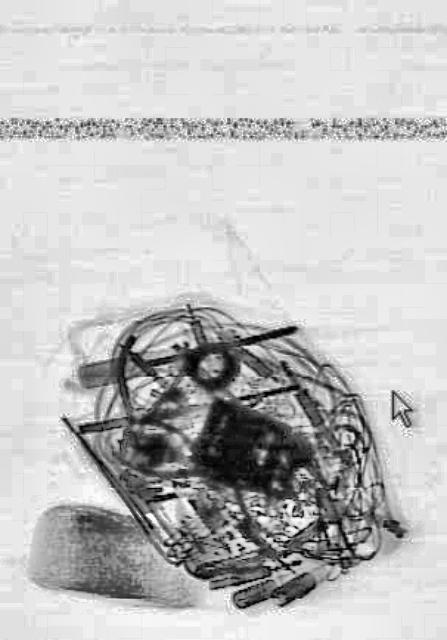Pliers: (91, 326, 187, 474), (122, 412, 222, 494)
